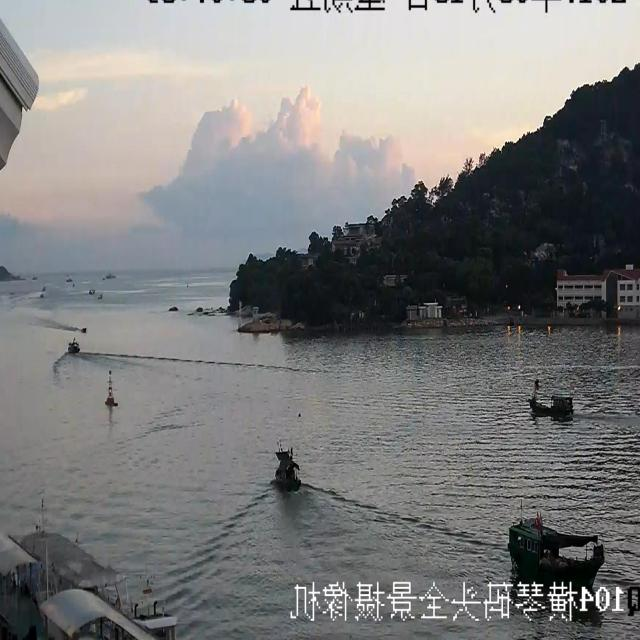buoy: (98, 351, 120, 420)
fishing boat: (496, 502, 613, 592), (514, 376, 589, 430), (267, 424, 307, 504), (63, 325, 83, 360)
